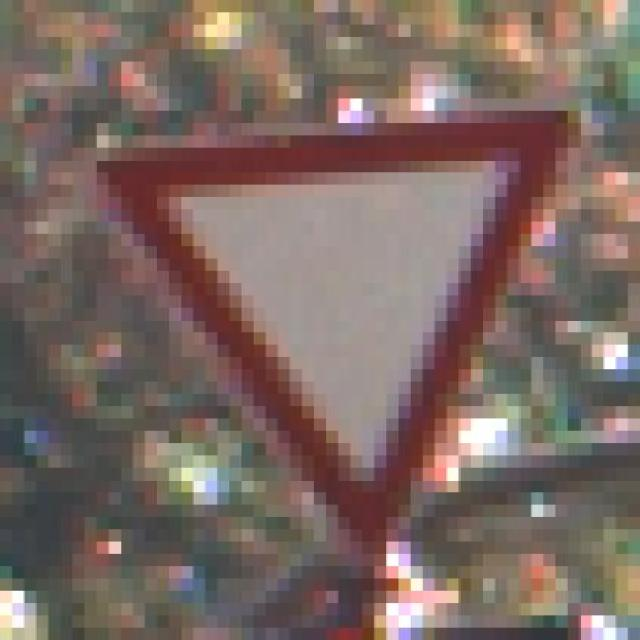Give Way: (57, 88, 612, 629)
